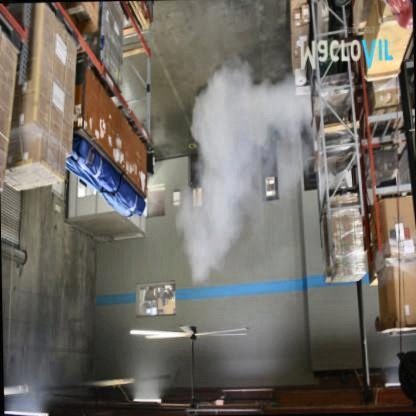smoke: (190, 84, 292, 277)
